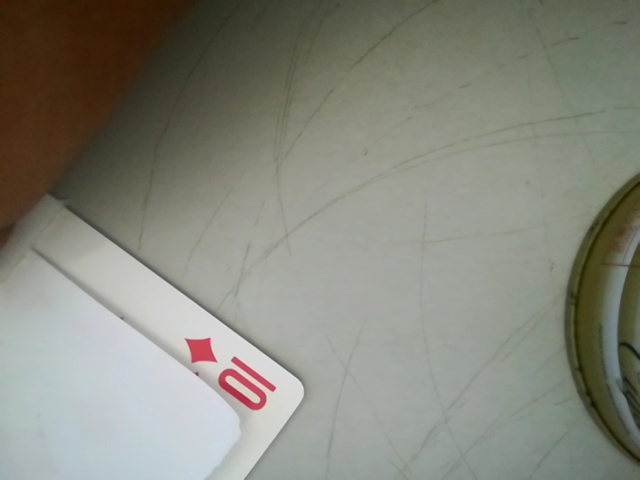fk 10: (168, 333, 284, 420)
